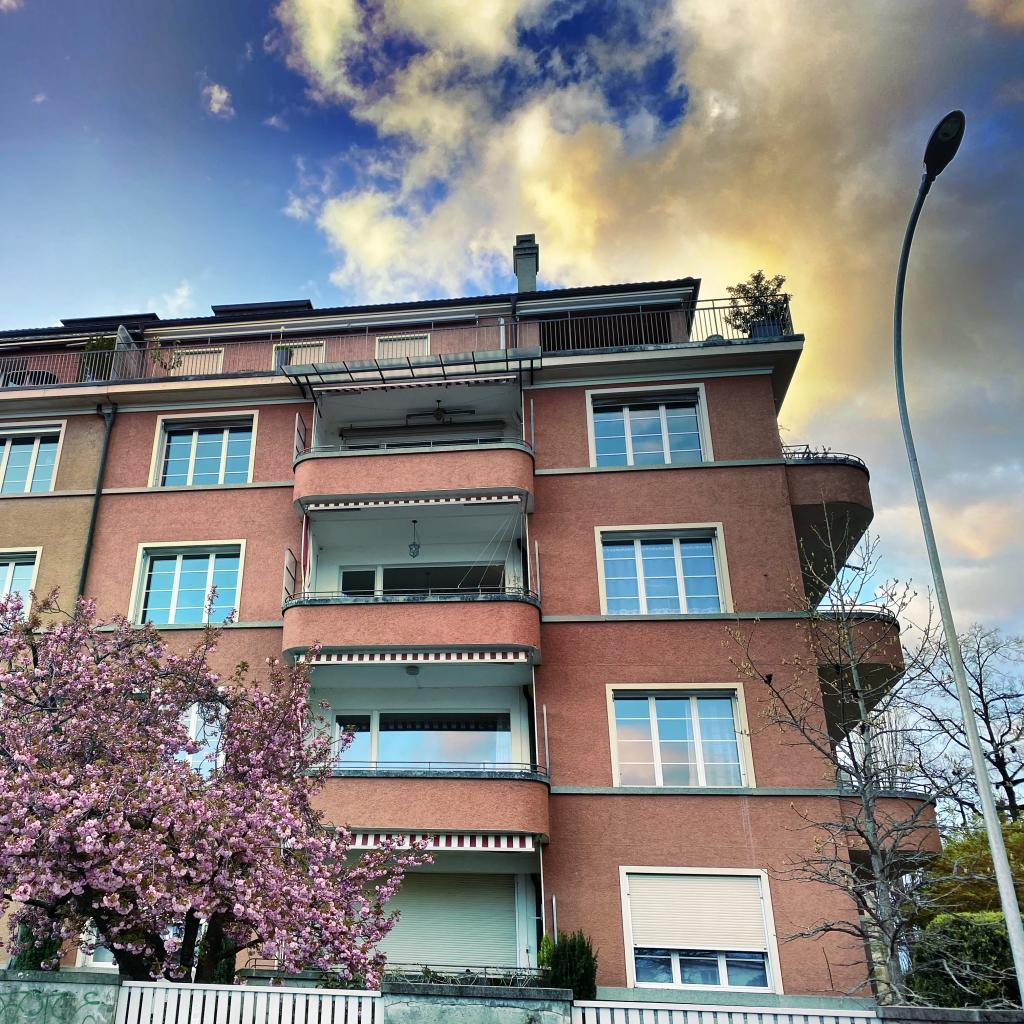balcony-fence: (0, 292, 797, 387), (241, 958, 552, 979), (293, 437, 536, 461), (284, 587, 538, 605), (295, 760, 548, 777), (782, 444, 865, 465), (837, 779, 932, 795), (807, 603, 896, 618)
facade: (0, 233, 944, 1010)
fence: (0, 968, 1024, 1024)
traffic-infrastructure: (892, 107, 1024, 1014)
vegetation: (0, 582, 441, 992), (719, 482, 1024, 1010), (721, 269, 793, 337)
window: (627, 872, 776, 995), (612, 690, 749, 788), (333, 709, 511, 771), (600, 529, 726, 615), (591, 392, 702, 467), (340, 562, 505, 598), (275, 343, 323, 370), (173, 351, 222, 375), (378, 336, 427, 358)
